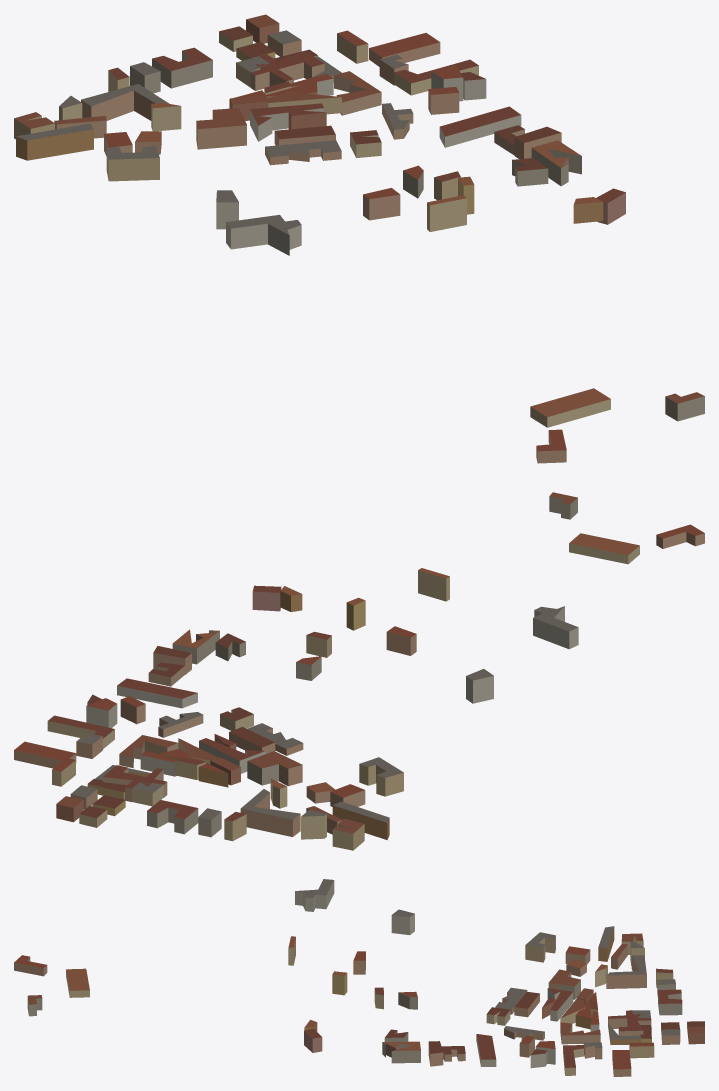
File: SM_Fondale_Citta_Colle_03_LOD2.fbx
3 views of the same model, one above another, from view 1: azimuth 30°, elevation 25°; view 2: azimuth 150°, elevation 25°; view 3: azimuth 270°, elevation 25° (orthographic). The views are drawn at different scales.
Parts seen in each view (by area): view 1: SM_Fondale_Citta_Colle_03_LOD2; view 2: SM_Fondale_Citta_Colle_03_LOD2; view 3: SM_Fondale_Citta_Colle_03_LOD2.
Boxes of the visible parts, x1,y1,x2,y2 form: SM_Fondale_Citta_Colle_03_LOD2: (14,14,704,463); SM_Fondale_Citta_Colle_03_LOD2: (14,492,704,850); SM_Fondale_Citta_Colle_03_LOD2: (14,879,704,1076).
Size of the model in its own units: 42155 by 88393 by 8576.
